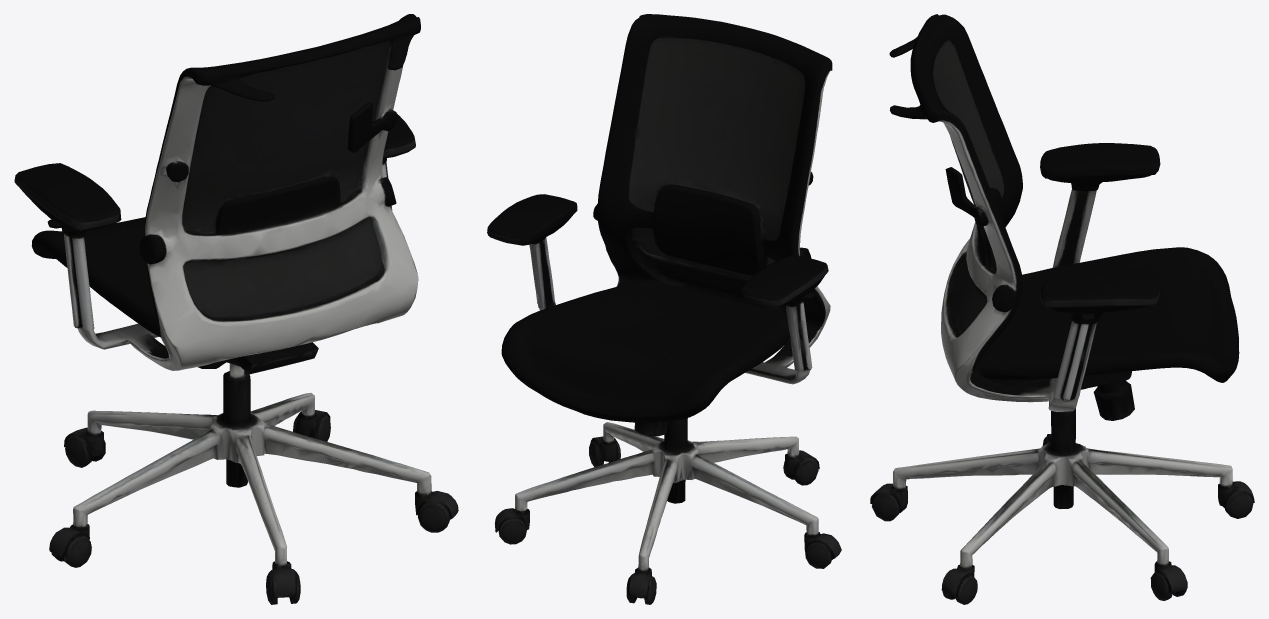
File: office_chair.glb
The picture shows the model from 3 angles, left to right: view 1: azimuth 30°, elevation 25°; view 2: azimuth 150°, elevation 25°; view 3: azimuth 270°, elevation 25°; orthographic projection. The views are drawn at different scales.
Visible parts, largest first — view 1: tripo_node_cf2d16ae-a508-43e9-94ee-f00040ba406f; view 2: tripo_node_cf2d16ae-a508-43e9-94ee-f00040ba406f; view 3: tripo_node_cf2d16ae-a508-43e9-94ee-f00040ba406f.
Boxes of the visible parts, x1,y1,x2,y2 form: tripo_node_cf2d16ae-a508-43e9-94ee-f00040ba406f: (14, 14, 458, 604); tripo_node_cf2d16ae-a508-43e9-94ee-f00040ba406f: (487, 14, 841, 604); tripo_node_cf2d16ae-a508-43e9-94ee-f00040ba406f: (870, 14, 1254, 604).
Bounding box in the file's own units: 0.7169 × 1 × 0.7266.
1 material, 1 textured.
